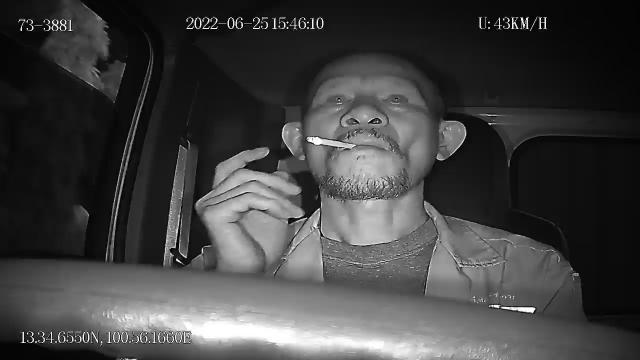SafeDriving: (380, 88, 414, 112)
Smoking: (308, 134, 357, 150)
